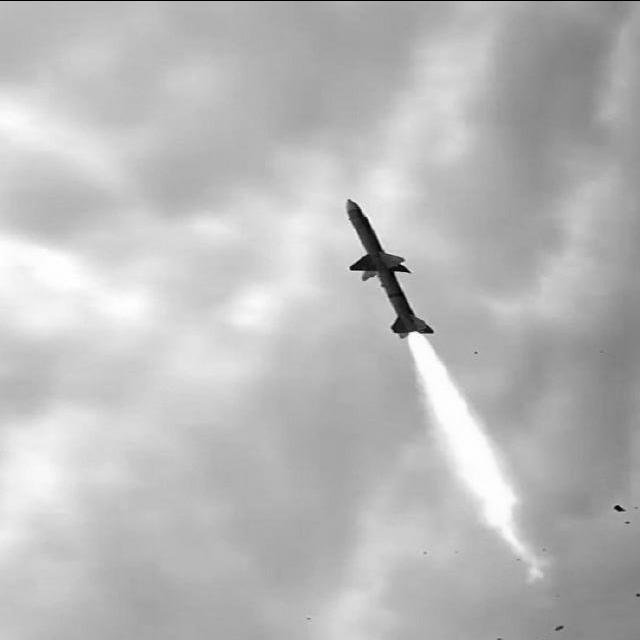missile: (335, 196, 440, 342)
